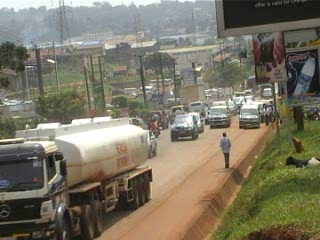Car: (169, 111, 199, 143), (139, 126, 159, 160), (145, 107, 171, 131), (188, 109, 205, 135), (168, 103, 189, 120), (202, 106, 212, 126), (227, 97, 238, 115), (232, 93, 245, 108), (243, 94, 257, 105)
Motorcycle: (150, 117, 164, 138)
